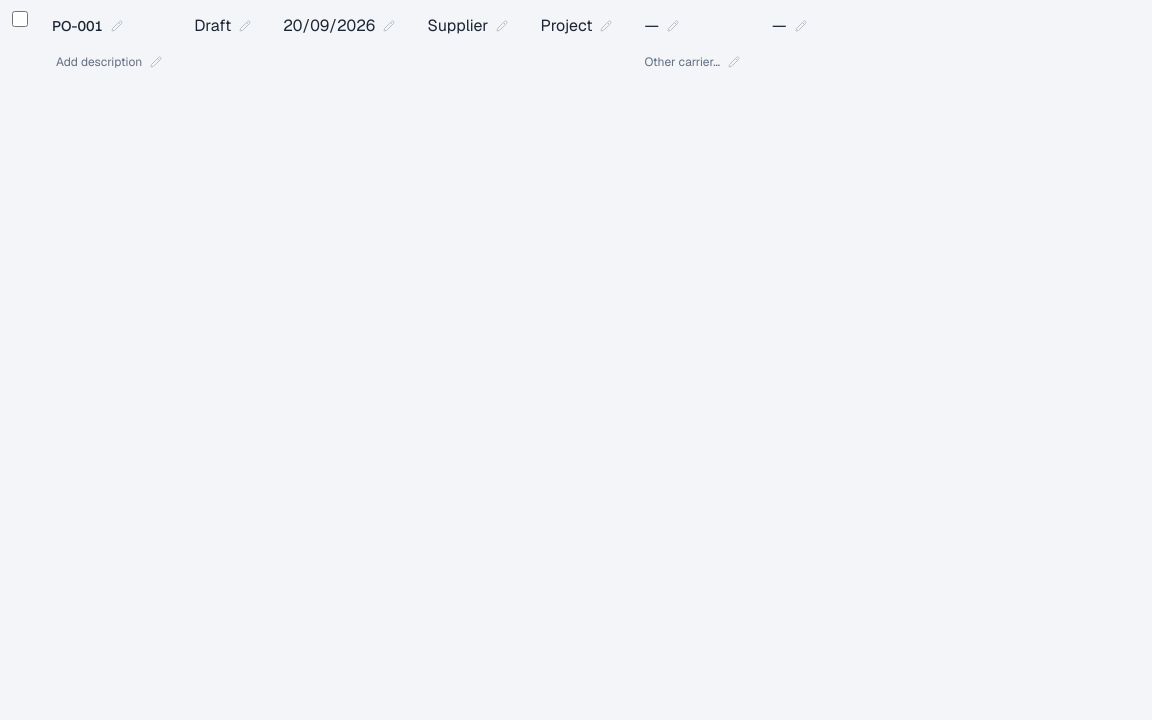
Test: Purchasing click-to-edit on every column set › opens delivery confirmation before changing an Order to Delivered
The width and height of the screenshot is (1152, 720).
Click the button "Draft" at (223, 26), box [190, 10, 255, 42]
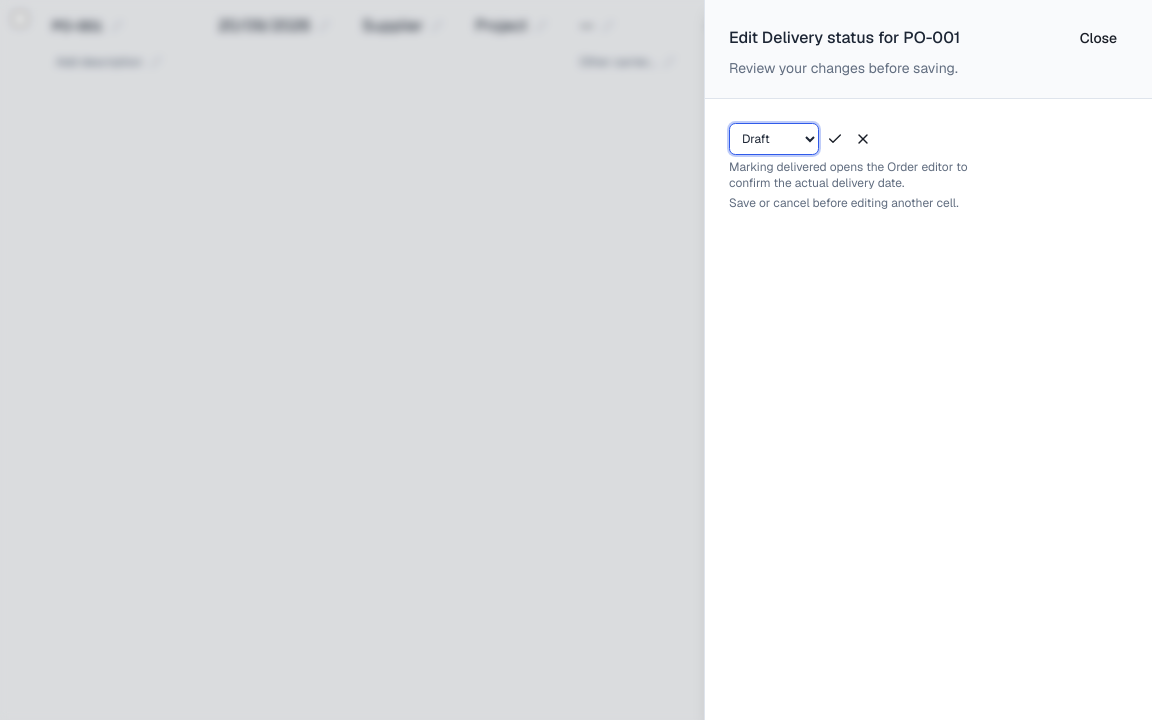
Select "Delivered" in the dropdown named "Delivery status for PO-001" at (774, 139), box [729, 123, 819, 155]
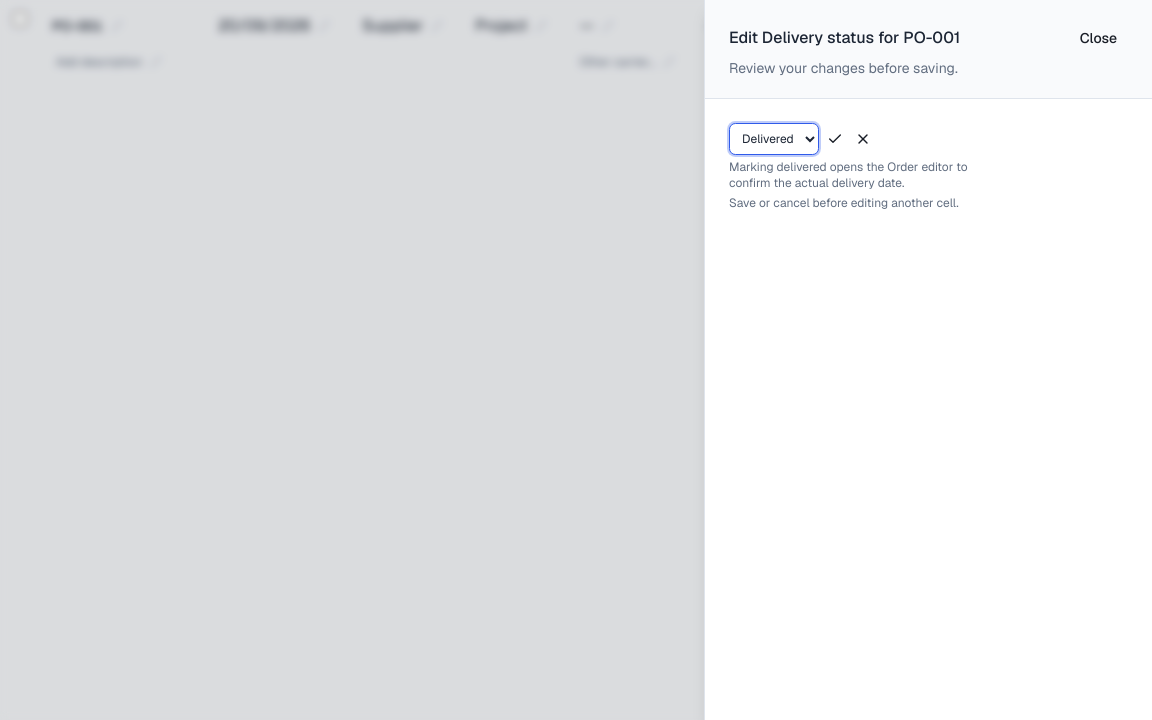
Click the button named "Save Delivery status for PO-001" at (835, 139), box [823, 127, 847, 151]
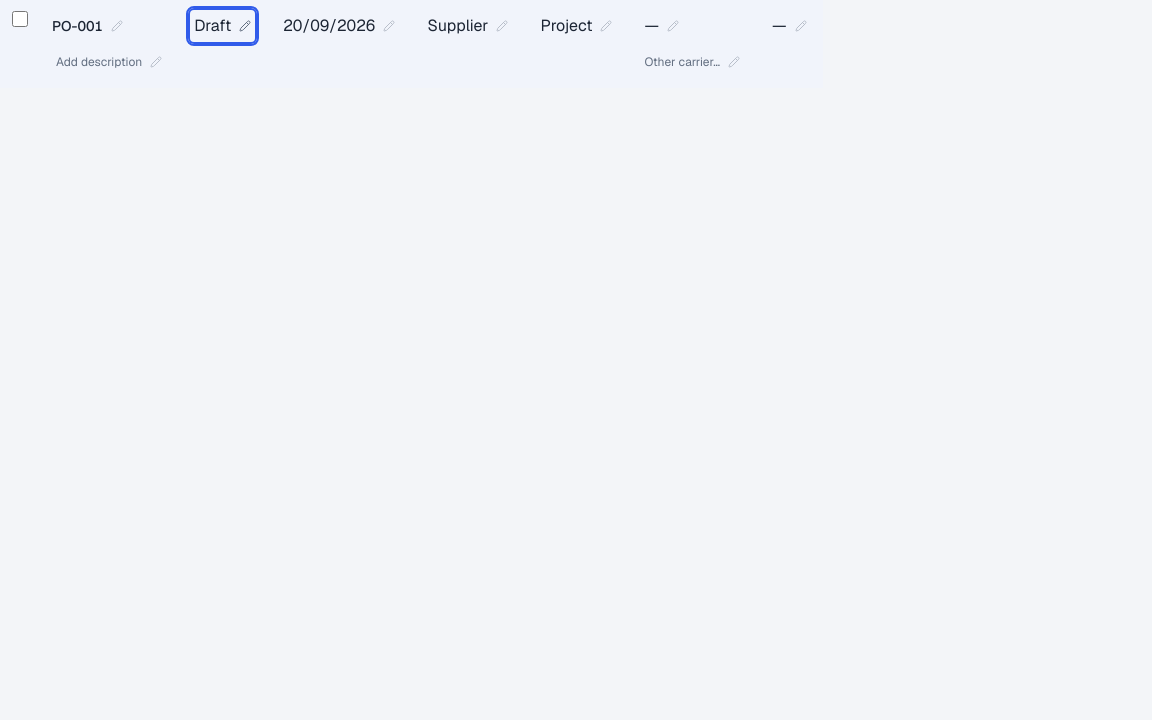
Check: the table shows "Draft", box [190, 10, 255, 42]
Check: the text "delivered" is gone
